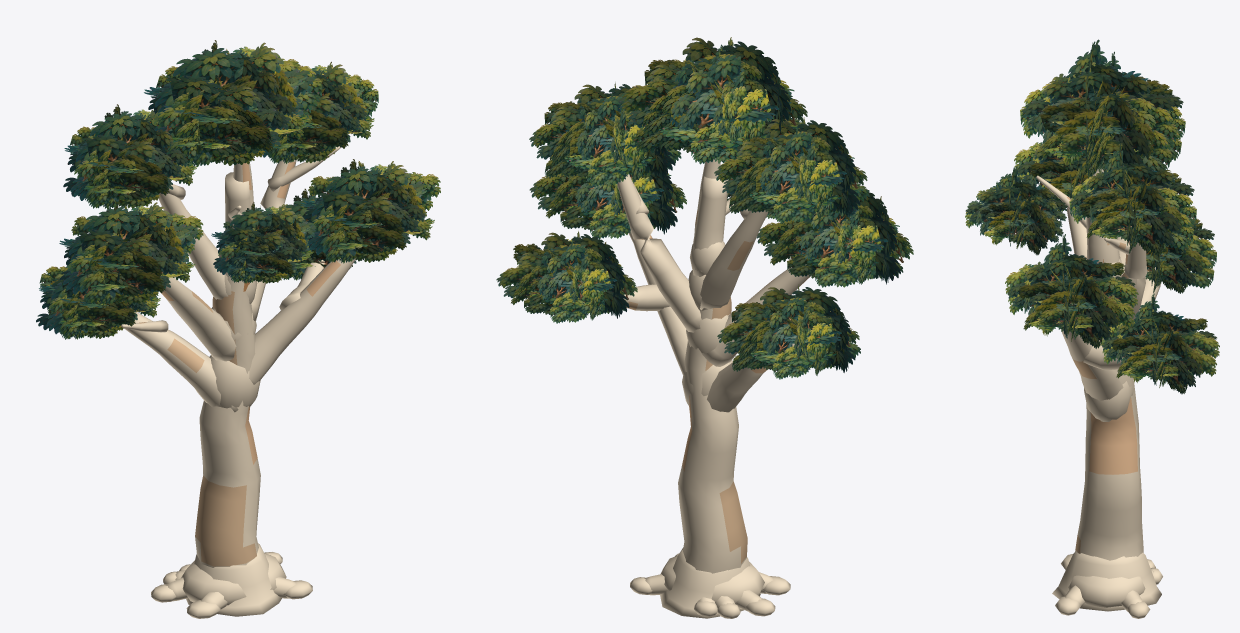
File: TREE_EUCALYPTUS_001_v010_LOD_CLOSE.glb
3 renders of one model, left to right at view 1: azimuth 30°, elevation 25°; view 2: azimuth 150°, elevation 25°; view 3: azimuth 270°, elevation 25°, orthographic. The views are drawn at different scales.
Parts seen in each view (by area): view 1: TREE_EUCALYPTUS_001_CLOSE_AUTHORED_FOLIAGE_ISLANDS, TREE_EUCALYPTUS_001_CLOSE_MAIN_TRUNK, TREE_EUCALYPTUS_001_CLOSE_MID_RIGHT_SWEEP, TREE_EUCALYPTUS_001_CLOSE_LOWER_LEFT_SWEEP, TREE_EUCALYPTUS_001_CLOSE_SCULPTED_ROOT_COLLAR, TREE_EUCALYPTUS_001_CLOSE_MID_LEFT_ARCH, TREE_EUCALYPTUS_001_CLOSE_UPPER_LEFT_FORK, TREE_EUCALYPTUS_001_CLOSE_BROAD_PLANTED_ROOT_MOUND, TREE_EUCALYPTUS_001_CLOSE_SCULPTED_FORK_SWELL_0, TREE_EUCALYPTUS_001_CLOSE_UPPER_RIGHT_ARCH, TREE_EUCALYPTUS_001_CLOSE_RIGHT_TOP_SUPPORT, TREE_EUCALYPTUS_001_CLOSE_LOWER_RIGHT_REACH; view 2: TREE_EUCALYPTUS_001_CLOSE_AUTHORED_FOLIAGE_ISLANDS, TREE_EUCALYPTUS_001_CLOSE_MAIN_TRUNK, TREE_EUCALYPTUS_001_CLOSE_UPPER_RIGHT_ARCH, TREE_EUCALYPTUS_001_CLOSE_UPPER_LEFT_FORK, TREE_EUCALYPTUS_001_CLOSE_SCULPTED_ROOT_COLLAR, TREE_EUCALYPTUS_001_CLOSE_LOWER_LEFT_SWEEP, TREE_EUCALYPTUS_001_CLOSE_BROAD_PLANTED_ROOT_MOUND, TREE_EUCALYPTUS_001_CLOSE_MID_RIGHT_SWEEP, TREE_EUCALYPTUS_001_CLOSE_MID_LEFT_ARCH, TREE_EUCALYPTUS_001_CLOSE_SCULPTED_FORK_SWELL_1, TREE_EUCALYPTUS_001_CLOSE_LOWER_RIGHT_REACH, TREE_EUCALYPTUS_001_CLOSE_SCULPTED_FORK_SWELL_3 (+1 smaller); view 3: TREE_EUCALYPTUS_001_CLOSE_AUTHORED_FOLIAGE_ISLANDS, TREE_EUCALYPTUS_001_CLOSE_MAIN_TRUNK, TREE_EUCALYPTUS_001_CLOSE_SCULPTED_ROOT_COLLAR, TREE_EUCALYPTUS_001_CLOSE_MID_RIGHT_SWEEP, TREE_EUCALYPTUS_001_CLOSE_BROAD_PLANTED_ROOT_MOUND, TREE_EUCALYPTUS_001_CLOSE_SCULPTED_FORK_SWELL_0, TREE_EUCALYPTUS_001_CLOSE_UPPER_RIGHT_ARCH, TREE_EUCALYPTUS_001_CLOSE_CENTRAL_CROWN_FORK, TREE_EUCALYPTUS_001_CLOSE_MID_LEFT_ARCH, TREE_EUCALYPTUS_001_CLOSE_LOWER_RIGHT_REACH.
Boxes of the visible parts, x1,y1,x2,y2 form: TREE_EUCALYPTUS_001_CLOSE_AUTHORED_FOLIAGE_ISLANDS: (36,40,440,339); TREE_EUCALYPTUS_001_CLOSE_MAIN_TRUNK: (195,172,260,567); TREE_EUCALYPTUS_001_CLOSE_MID_RIGHT_SWEEP: (249,258,355,384); TREE_EUCALYPTUS_001_CLOSE_LOWER_LEFT_SWEEP: (124,312,238,412); TREE_EUCALYPTUS_001_CLOSE_SCULPTED_ROOT_COLLAR: (186,543,281,616); TREE_EUCALYPTUS_001_CLOSE_MID_LEFT_ARCH: (160,276,236,361); TREE_EUCALYPTUS_001_CLOSE_UPPER_LEFT_FORK: (158,192,228,299); TREE_EUCALYPTUS_001_CLOSE_BROAD_PLANTED_ROOT_MOUND: (181,553,286,605); TREE_EUCALYPTUS_001_CLOSE_SCULPTED_FORK_SWELL_0: (209,355,260,408); TREE_EUCALYPTUS_001_CLOSE_UPPER_RIGHT_ARCH: (251,159,296,320); TREE_EUCALYPTUS_001_CLOSE_RIGHT_TOP_SUPPORT: (267,146,341,191); TREE_EUCALYPTUS_001_CLOSE_LOWER_RIGHT_REACH: (279,260,325,310); TREE_EUCALYPTUS_001_CLOSE_AUTHORED_FOLIAGE_ISLANDS: (496,37,913,379); TREE_EUCALYPTUS_001_CLOSE_MAIN_TRUNK: (678,176,747,573); TREE_EUCALYPTUS_001_CLOSE_UPPER_RIGHT_ARCH: (614,150,701,332); TREE_EUCALYPTUS_001_CLOSE_UPPER_LEFT_FORK: (700,210,768,310); TREE_EUCALYPTUS_001_CLOSE_SCULPTED_ROOT_COLLAR: (660,547,760,618); TREE_EUCALYPTUS_001_CLOSE_LOWER_LEFT_SWEEP: (707,343,798,412); TREE_EUCALYPTUS_001_CLOSE_BROAD_PLANTED_ROOT_MOUND: (660,555,764,604); TREE_EUCALYPTUS_001_CLOSE_MID_RIGHT_SWEEP: (628,230,687,375); TREE_EUCALYPTUS_001_CLOSE_MID_LEFT_ARCH: (701,264,810,366); TREE_EUCALYPTUS_001_CLOSE_SCULPTED_FORK_SWELL_1: (686,314,729,353); TREE_EUCALYPTUS_001_CLOSE_LOWER_RIGHT_REACH: (623,284,670,311); TREE_EUCALYPTUS_001_CLOSE_SCULPTED_FORK_SWELL_3: (690,241,725,273); TREE_EUCALYPTUS_001_CLOSE_AUTHORED_FOLIAGE_ISLANDS: (965,39,1219,394); TREE_EUCALYPTUS_001_CLOSE_MAIN_TRUNK: (1075,217,1143,560); TREE_EUCALYPTUS_001_CLOSE_SCULPTED_ROOT_COLLAR: (1052,551,1161,611); TREE_EUCALYPTUS_001_CLOSE_MID_RIGHT_SWEEP: (1060,329,1123,400); TREE_EUCALYPTUS_001_CLOSE_BROAD_PLANTED_ROOT_MOUND: (1068,575,1145,607); TREE_EUCALYPTUS_001_CLOSE_SCULPTED_FORK_SWELL_0: (1084,381,1133,421); TREE_EUCALYPTUS_001_CLOSE_UPPER_RIGHT_ARCH: (1099,240,1147,340); TREE_EUCALYPTUS_001_CLOSE_CENTRAL_CROWN_FORK: (1087,167,1110,263); TREE_EUCALYPTUS_001_CLOSE_MID_LEFT_ARCH: (1067,196,1087,259); TREE_EUCALYPTUS_001_CLOSE_LOWER_RIGHT_REACH: (1083,341,1123,370).
Bounding box in the file's own units: 9.99 × 13.9 × 6.29.
5 materials, 1 textured.
